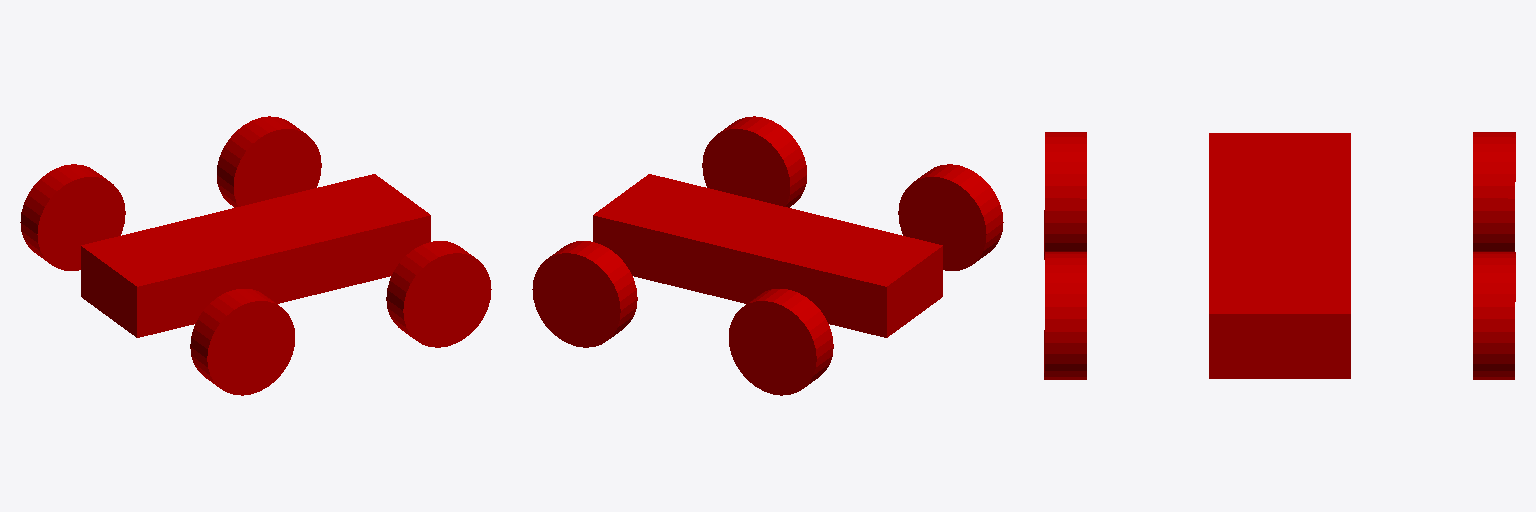
robot.urdf — four_wheels:
<?xml version="1.0"?>
<robot name ="four_wheels">

<material name="blue">
    <color rgba="0 0 0.8 1"/>
</material>
<material name="black">
    <color rgba="0 0 0 1"/>
</material>
<material name="white">
    <color rgba="1 1 1 1"/>
</material>
<material name="red">
    <color rgba="0.8 0 0 1"/>
</material>

<link name = "chassis">
    <visual>
        <geometry>
            <box size="3 1 0.5"/>
        </geometry>
        <material name="red"/>
    </visual>
    <collision>
        <geometry>
            <box size="3 1 0.5"/>
        </geometry>
    </collision>
    <inertial>
        <mass value="1"/>
        <inertia ixx="1.0" ixy="0.0" ixz="0.0" iyy="1.0" iyz="0.0" izz="1.0"/>
    </inertial>
</link>

<link name = "wheel_fl">
    <visual>
        <geometry>
            <cylinder length = "0.3" radius = "0.45"/>
        </geometry>
        <material name="red"/>
    </visual>
    <collision>
        <geometry>
            <cylinder length = "0.3" radius = "0.45"/>
        </geometry>
    </collision>
    <inertial>
        <mass value="1"/>
        <inertia ixx="1.0" ixy="0.0" ixz="0.0" iyy="1.0" iyz="0.0" izz="1.0"/>
    </inertial>
</link>

<link name = "wheel_fr">
    <visual>
        <geometry>
            <cylinder length = "0.3" radius = "0.45"/>
        </geometry>
        <material name="red"/>
    </visual>
    <collision>
        <geometry>
            <cylinder length = "0.3" radius = "0.45"/>
        </geometry>
    </collision>
    <inertial>
        <mass value="1"/>
        <inertia ixx="1.0" ixy="0.0" ixz="0.0" iyy="1.0" iyz="0.0" izz="1.0"/>
    </inertial>
</link>

<link name = "wheel_rl">
    <visual>
        <geometry>
            <cylinder length = "0.3" radius = "0.45"/>
        </geometry>
        <material name="red"/>
    </visual>
    <collision>
        <geometry>
            <cylinder length = "0.3" radius = "0.45"/>
        </geometry>
    </collision>
    <inertial>
        <mass value="1"/>
        <inertia ixx="1.0" ixy="0.0" ixz="0.0" iyy="1.0" iyz="0.0" izz="1.0"/>
    </inertial>
</link>

<link name = "wheel_rr">
    <visual>
        <geometry>
            <cylinder length = "0.3" radius = "0.45"/>
        </geometry>
        <material name="red"/>
    </visual>
    <collision>
        <geometry>
            <cylinder length = "0.3" radius = "0.45"/>
        </geometry>
    </collision>
    <inertial>
        <mass value="1"/>
        <inertia ixx="1.0" ixy="0.0" ixz="0.0" iyy="1.0" iyz="0.0" izz="1.0"/>
    </inertial>
</link>

<joint name = "chassis_wheel_fr" type = "continuous">
    <parent link = "chassis"/>
    <child link = "wheel_fr"/>
    <origin xyz = "1 1.5 0" rpy = "1.57 0 0" />
    <axis xyz = "0 0 1" />
</joint>

<joint name = "chassis_wheel_fl" type = "continuous">
    <parent link = "chassis"/>
    <child link = "wheel_fl"/>
    <origin xyz = "1 -1.5 0" rpy = "1.57 0 0" />
    <axis xyz = "0 0 1" />
</joint>

<joint name = "chassis_wheel_rr" type = "continuous">
    <parent link = "chassis"/>
    <child link = "wheel_rr"/>
    <origin xyz = "-1 1.5 0" rpy = "1.57 0 0" />
    <axis xyz = "0 0 1" />
</joint>

<joint name = "chassis_wheel_rl" type = "continuous">
    <parent link = "chassis"/>
    <child link = "wheel_rl"/>
    <origin xyz = "-1 -1.5 0" rpy = "1.57 0 0" />
    <axis xyz = "0 0 1" />
</joint>

<motor name = "motor_rr">
    <joint name = "chassis_wheel_rr"/>
    <!-- location is with respect to the joint's parent frame -->
    <mass value = "1" xyz = "-1 0.5 0"/>
</motor>

<motor name = "motor_rl">
    <joint name = "chassis_wheel_rr"/>
    <!-- location is with respect to the joint's parent frame -->
    <mass value = "1" xyz = "-1 -0.5 0"/>
</motor>

<extra_mass name = "main_board">
    <link name = "chassis"/>
    <!-- location is in the link's ref frame -->
    <mass value = "1" xyz = "0 0 0"/>
</extra_mass>
</robot>

--- What the picture shows (computed from the rendered views, not written in the file) ---
3 views of the same robot in one strip: view 1: azimuth 30°, elevation 25°; view 2: azimuth 150°, elevation 25°; view 3: azimuth 270°, elevation 25° (orthographic).
Model four_wheels with 5 links and 4 joints (4 continuous), rooted at chassis, posed all joints at 0.
Links seen in each view (by area): view 1: chassis, wheel_fl, wheel_rl, wheel_rr, wheel_fr; view 2: chassis, wheel_fr, wheel_rr, wheel_rl, wheel_fl; view 3: chassis, wheel_fl, wheel_fr, wheel_rl, wheel_rr.
Link boxes in pixels (x1,y1,x2,y2): chassis: (81,174,430,337); wheel_fl: (386,241,491,347); wheel_rl: (190,289,294,395); wheel_rr: (20,164,125,270); wheel_fr: (217,116,321,207); chassis: (593,174,942,337); wheel_fr: (532,241,637,347); wheel_rr: (729,289,833,395); wheel_rl: (898,164,1003,270); wheel_fl: (702,116,806,207); chassis: (1209,133,1350,378); wheel_fl: (1044,252,1086,379); wheel_fr: (1473,252,1515,379); wheel_rl: (1044,132,1086,259); wheel_rr: (1473,132,1515,251).
Bounding box of the posed robot: 3 × 3.3 × 0.9002 m (x, y, z).
Geometry: primitives only (box / cylinder / sphere), no mesh files.